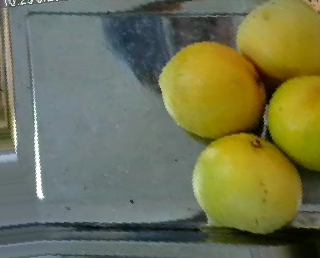Mango: (180, 129, 305, 239), (153, 41, 267, 141), (234, 0, 320, 81), (260, 75, 320, 172)
